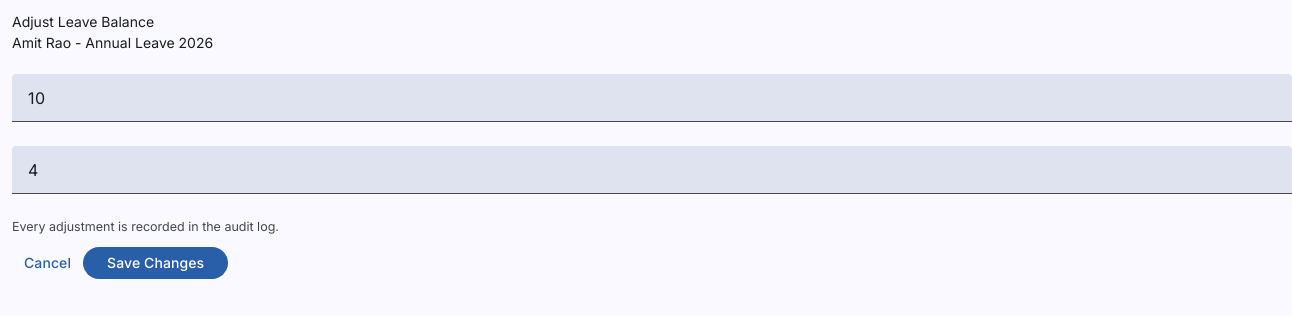
Test: AdjustBalanceDialogComponent › refuses abc, with a message and a disabled submit
Step 1. Replace the text in the 1st field named "entitlement" with "abc" → (652, 98), box [28, 86, 1276, 110]
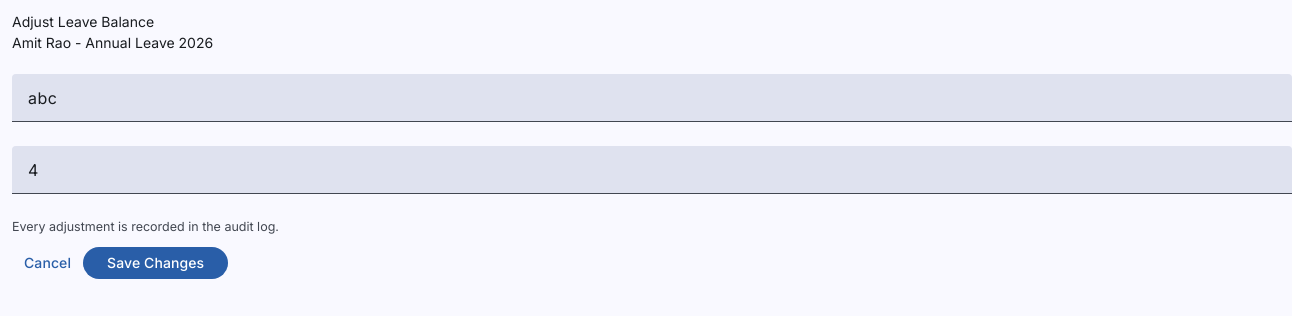
Step 2. Submit the form
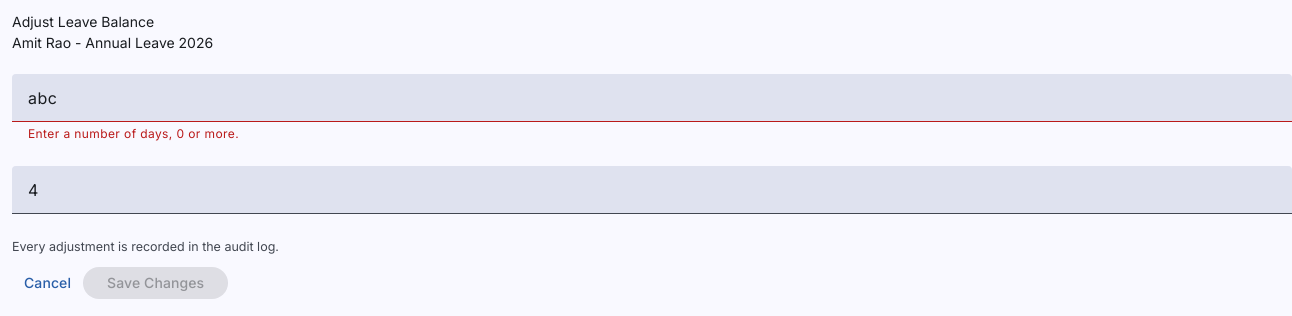
Expected: the text "Enter a number of days, 0 or more." is shown, [28, 126, 239, 141]
Expected: the submit button is disabled, [83, 267, 228, 299]
